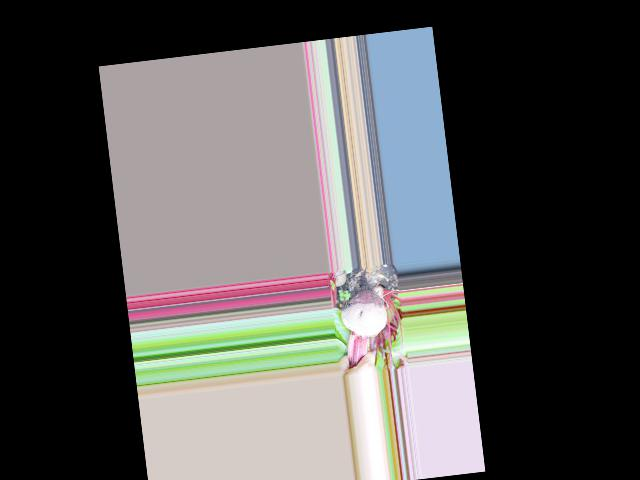beet: (336, 264, 393, 368)
